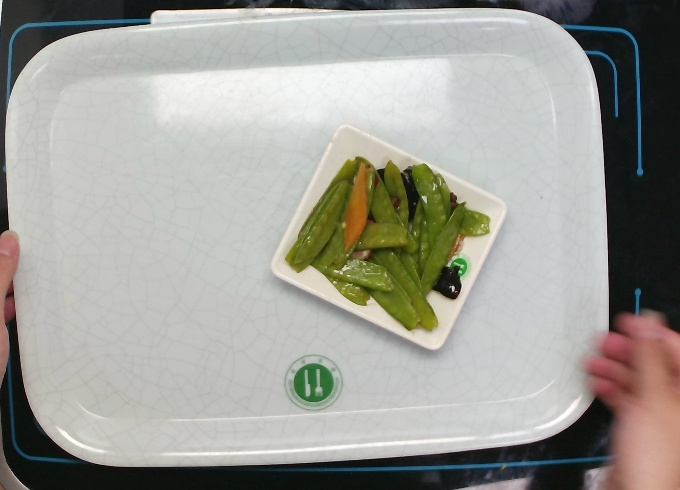WCQzf-Bai_Se_Si_Fang_Die: (267, 122, 513, 358)
